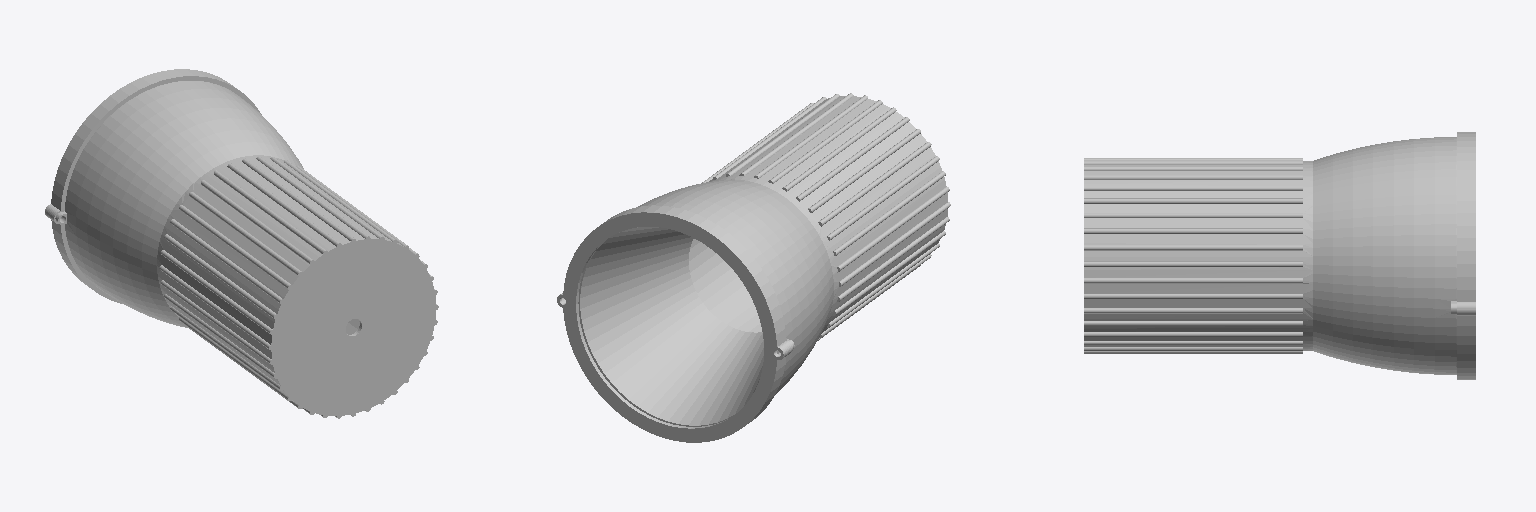
Rendered from 装配体.obj.
3 views of the same model, side by side, from view 1: azimuth 30°, elevation 25°; view 2: azimuth 150°, elevation 25°; view 3: azimuth 270°, elevation 25° (orthographic).
Parts seen in each view (by area): view 1: ______2; view 2: ______2; view 3: ______2.
Boxes of the visible parts, box(x1,y1,x2,y2) form: ______2: box(45, 69, 438, 418); ______2: box(557, 93, 950, 442); ______2: box(1084, 132, 1475, 379).
Bounding box in the file's own units: 275 × 260 × 411.